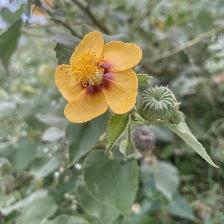indian mallow: (54, 30, 145, 126)
